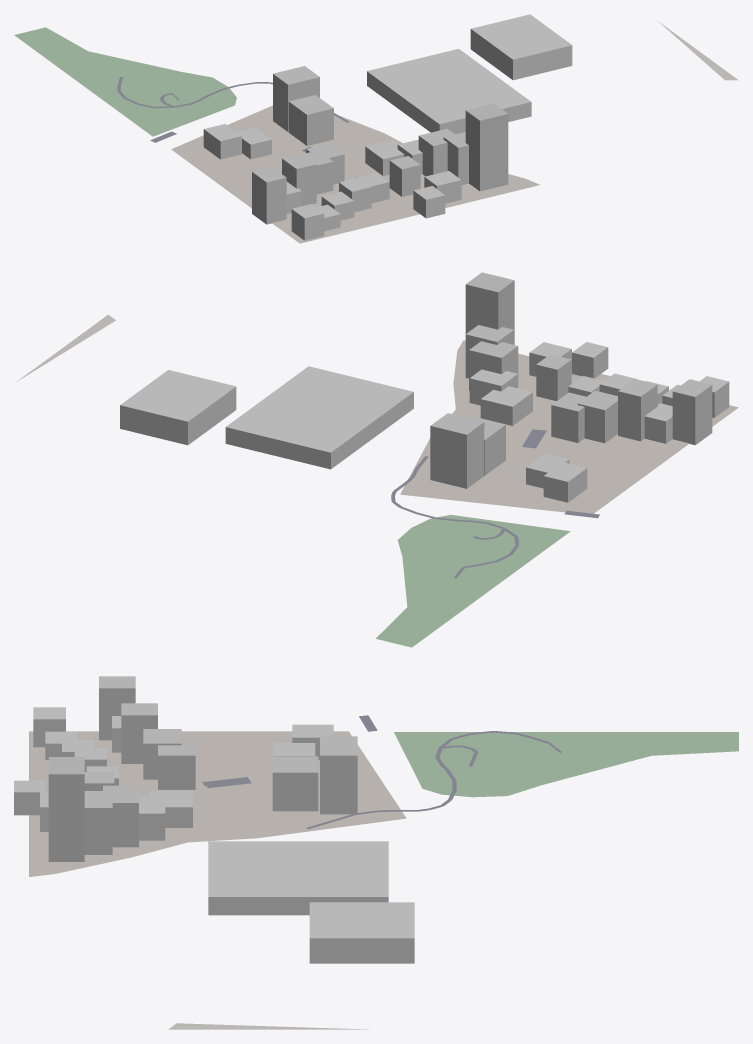
File: 115_80_mid.glb
3 views of the same model, one above another, from view 1: azimuth 30°, elevation 25°; view 2: azimuth 150°, elevation 25°; view 3: azimuth 270°, elevation 25° (orthographic). The views are drawn at different scales.
Bounding box in the file's own units: 513 × 69.33 × 510.
